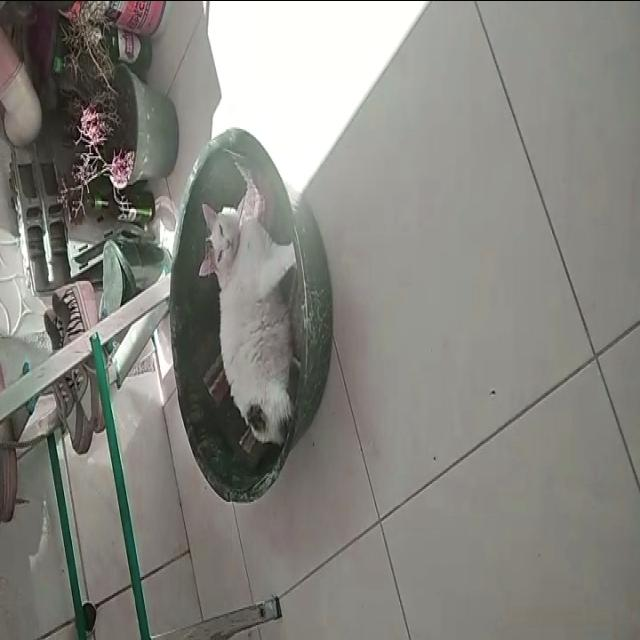Simba: (189, 184, 313, 458)
